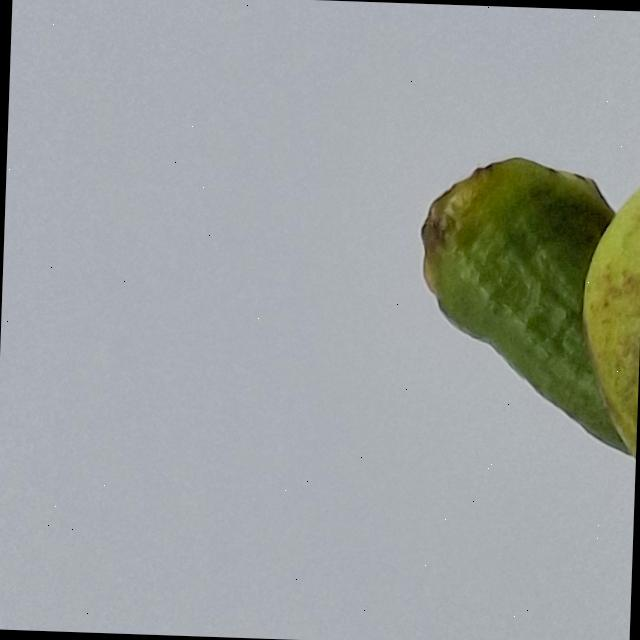mangosteen: (354, 2, 640, 640)
